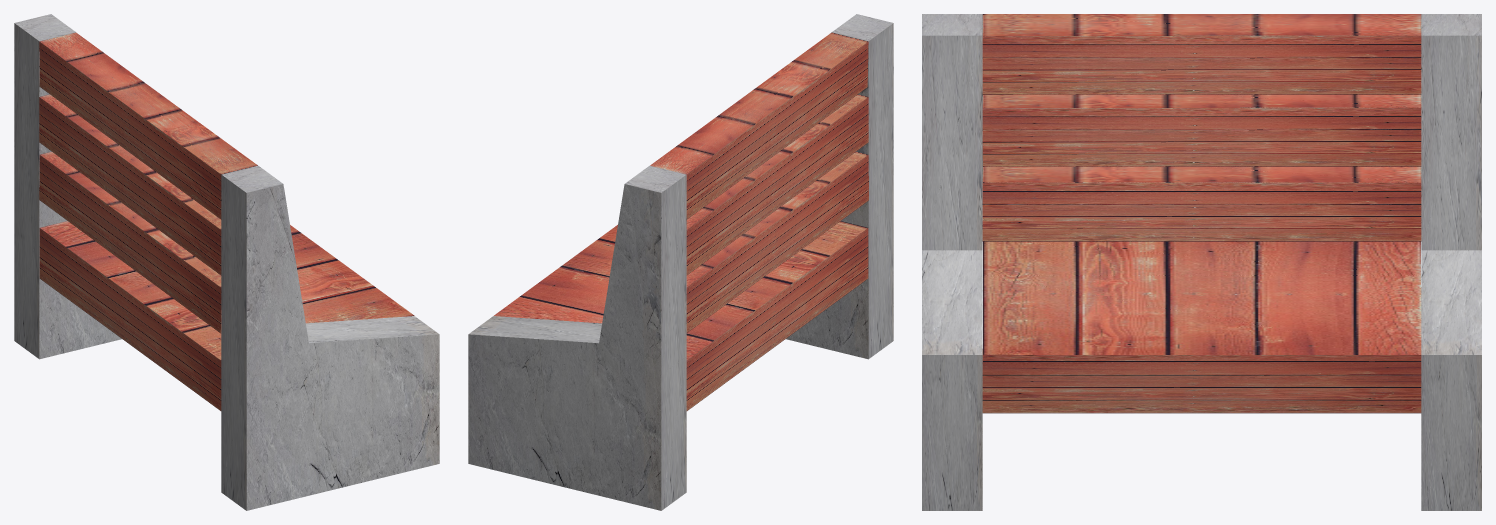
The model's file is BancaProyecto.fbx.
3 views of the same model, side by side, from view 1: azimuth 30°, elevation 25°; view 2: azimuth 150°, elevation 25°; view 3: azimuth 270°, elevation 25° (orthographic). The views are drawn at different scales.
Visible parts, largest first — view 1: Box030, Box032, Box034, Box033, Box036, Box035; view 2: Box033, Box032, Box034, Box030, Box036, Box035; view 3: Box032, Box034, Box036, Box035, Box030, Box033.
Part boxes in pixels (<box>): Box030: <box>221,165,439,510</box>; Box032: <box>39,221,414,410</box>; Box034: <box>39,32,257,219</box>; Box033: <box>14,14,121,359</box>; Box036: <box>39,151,221,333</box>; Box035: <box>39,94,221,275</box>; Box033: <box>468,165,686,510</box>; Box032: <box>494,221,868,410</box>; Box034: <box>650,32,868,219</box>; Box030: <box>786,14,893,359</box>; Box036: <box>686,151,868,332</box>; Box035: <box>686,94,868,274</box>; Box032: <box>982,241,1421,413</box>; Box034: <box>982,14,1421,94</box>; Box036: <box>982,159,1421,241</box>; Box035: <box>982,94,1421,166</box>; Box030: <box>922,14,982,510</box>; Box033: <box>1421,14,1481,510</box>.
Size of the model in its own units: 44.68 by 70 by 92.63.
